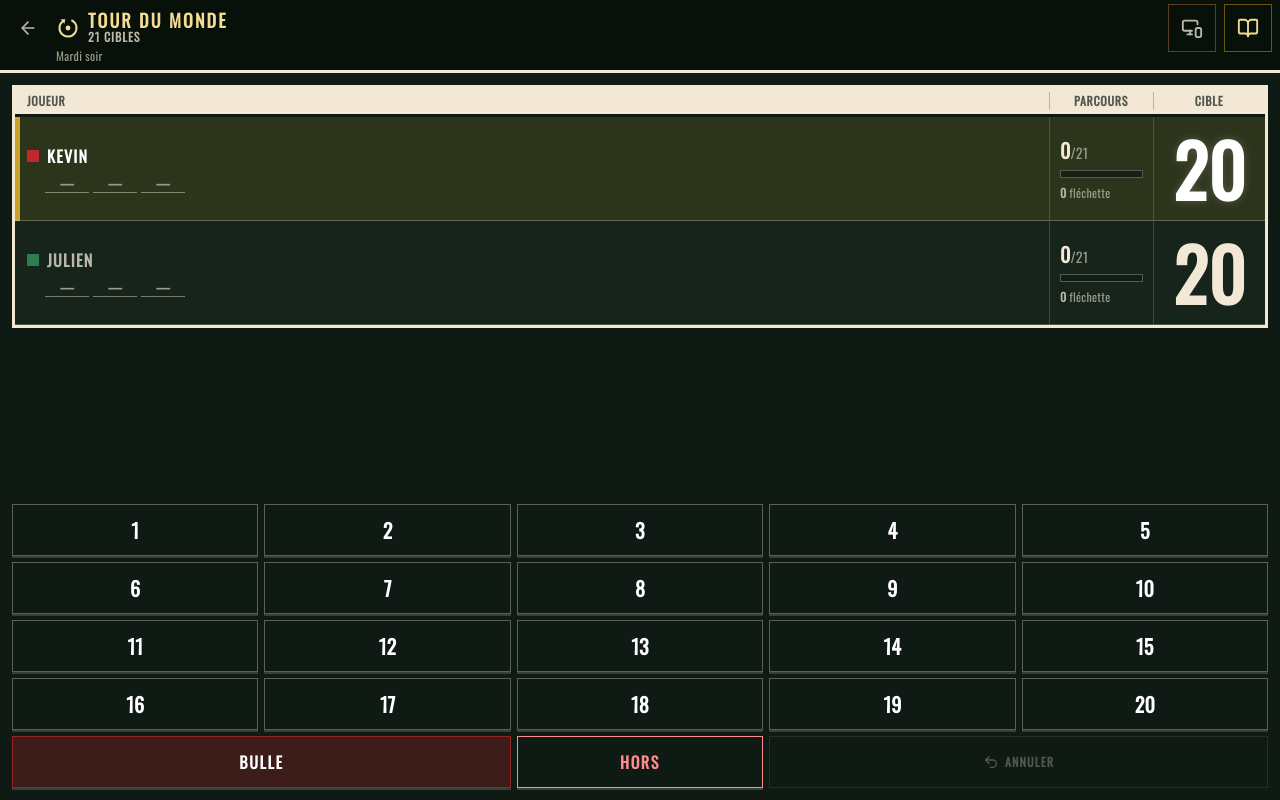
Test: Le livre ouvert, sur le match › ouvre la feuille de règles de TOUR_DU_MONDE sans changer d’URL
What coordinates should you click on to do the following:
click the button named "Règles du Tour du monde"
I would click on:
 (1248, 28)
Its box is [1224,4,1272,52].
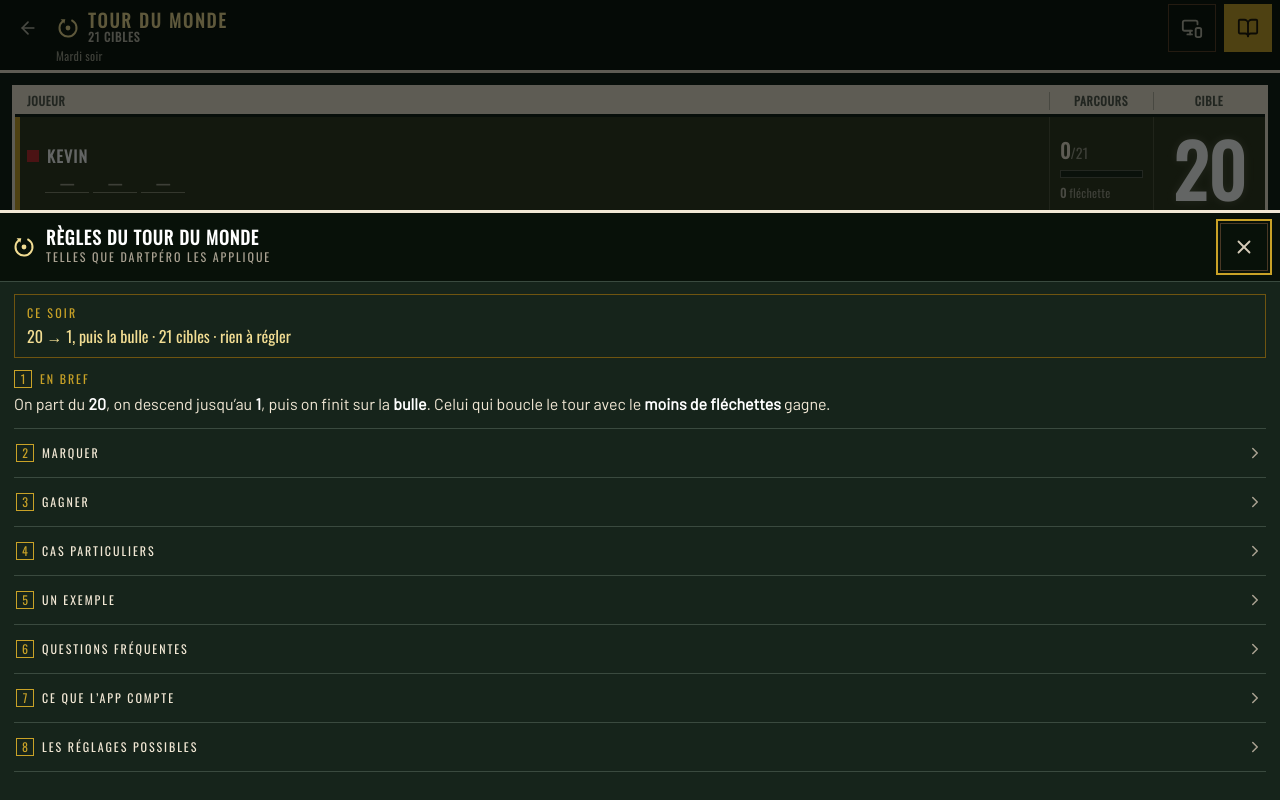
Check: the dialog "Règles du Tour du monde" is shown
Check: the button named "Règles du Tour du monde" is expanded, box [1224,4,1272,52]
